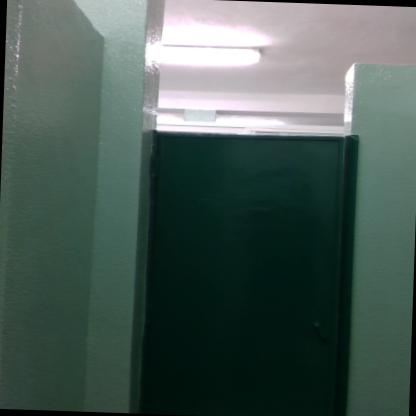closed: (114, 90, 374, 416)
